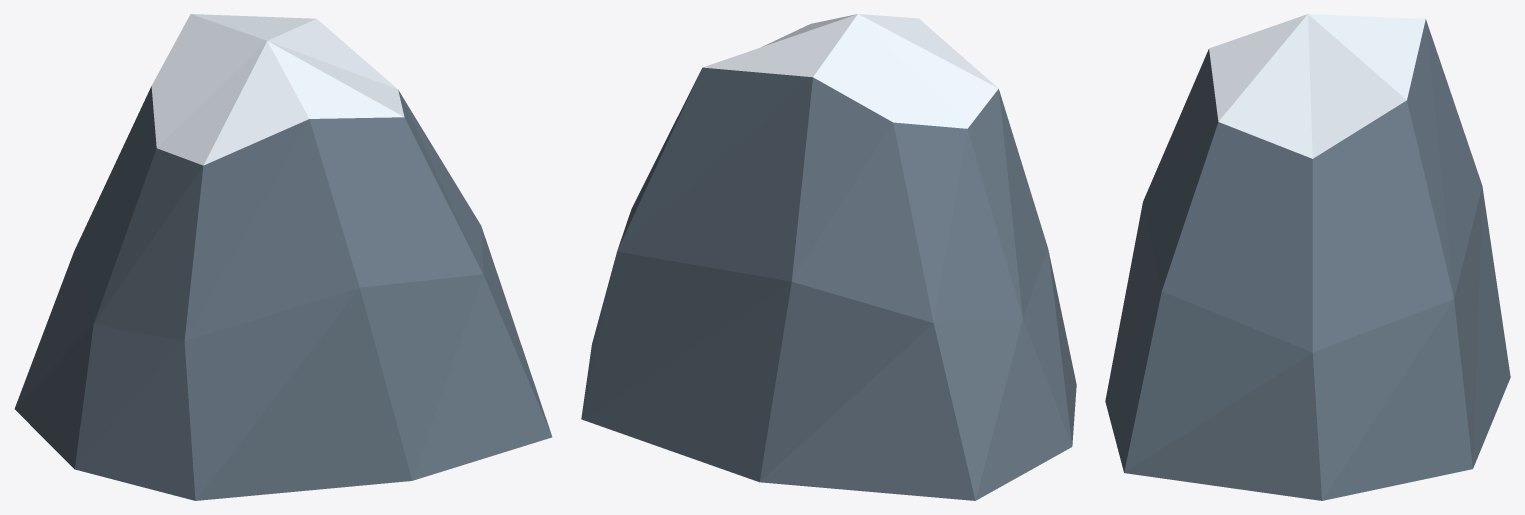
File: alpine-outcrop.glb
The picture shows the model from 3 angles, left to right: view 1: azimuth 30°, elevation 25°; view 2: azimuth 150°, elevation 25°; view 3: azimuth 270°, elevation 25°; orthographic projection. The views are drawn at different scales.
Parts seen in each view (by area): view 1: Granite, SnowCrown; view 2: Granite, SnowCrown; view 3: Granite, SnowCrown.
Part boxes in pixels (bbox=[...]): Granite: bbox=[14, 86, 552, 500]; SnowCrown: bbox=[151, 14, 404, 165]; Granite: bbox=[581, 67, 1076, 500]; SnowCrown: bbox=[703, 14, 998, 128]; Granite: bbox=[1105, 19, 1510, 500]; SnowCrown: bbox=[1209, 14, 1425, 158].
Bounding box in the file's own units: 5.4 × 4.3 × 4.3.
